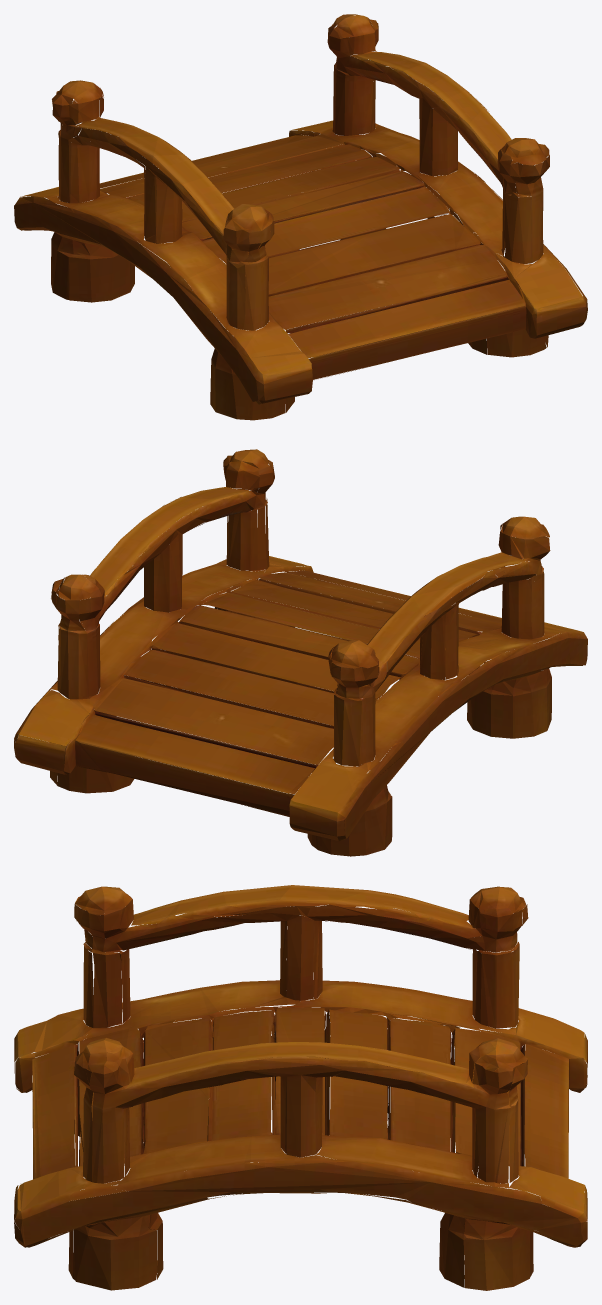
The model's file is small_bridge.glb.
3 renders of one model, top to bottom at view 1: azimuth 30°, elevation 25°; view 2: azimuth 150°, elevation 25°; view 3: azimuth 270°, elevation 25°, orthographic. The views are drawn at different scales.
Visible parts, largest first — view 1: geometry_0; view 2: geometry_0; view 3: geometry_0.
Boxes of the visible parts, x1,y1,x2,y2 form: geometry_0: (14,14,587,420); geometry_0: (14,449,587,856); geometry_0: (14,885,587,1290).
Size of the model in its own units: 0.7709 by 0.4515 by 0.9988.
1 material, 1 textured.
